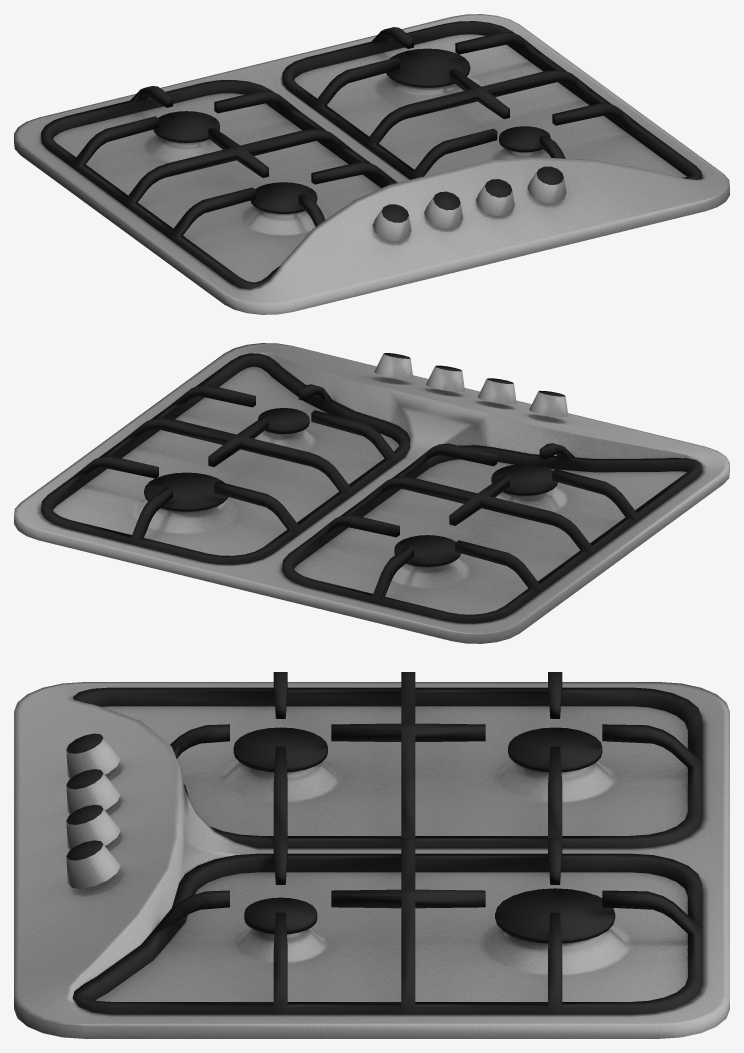
Rendered from SuperLowPolyStove.glb.
3 views of the same model, one above another, from view 1: azimuth 30°, elevation 25°; view 2: azimuth 150°, elevation 25°; view 3: azimuth 270°, elevation 25° (orthographic). The views are drawn at different scales.
Visible parts, largest first — view 1: Stove; view 2: Stove; view 3: Stove.
Boxes of the visible parts, <box> form: Stove: <box>14,14,729,314</box>; Stove: <box>14,343,729,643</box>; Stove: <box>14,672,729,1038</box>.
Size of the model in its own units: 0.58 by 0.059 by 0.51.
2 materials, 2 textured.
